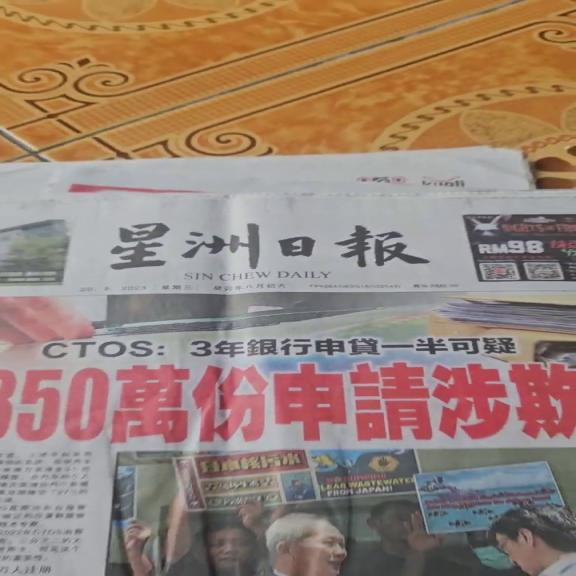Kertas: (3, 167, 570, 568)
